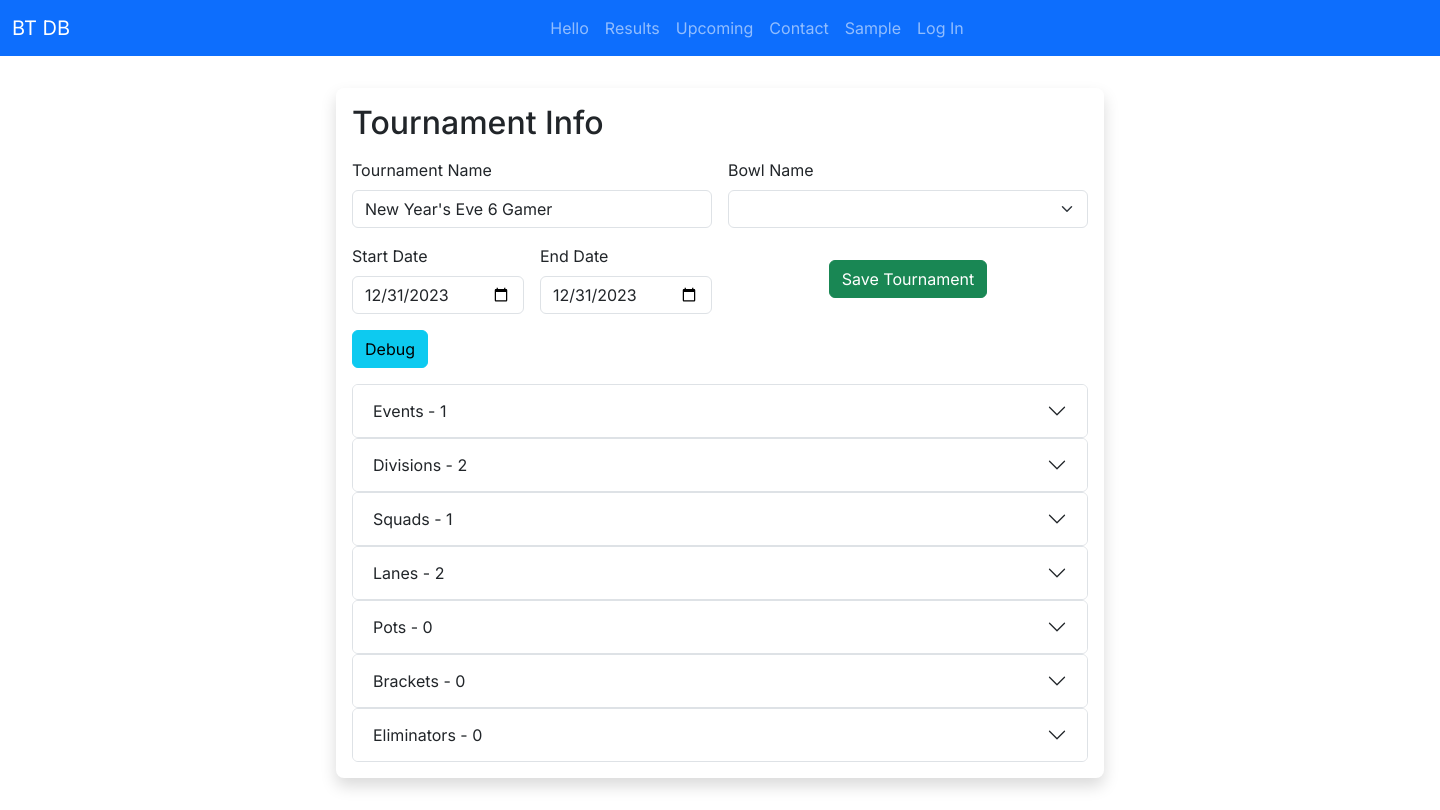
Scenario: TmntDataPage - Brackets Component › click the bracket division radio buttons › render multiple division radio buttons
Click the button "Brackets - 0". click: (414, 681)
box: [353,655,1087,707]
(page scrolled)
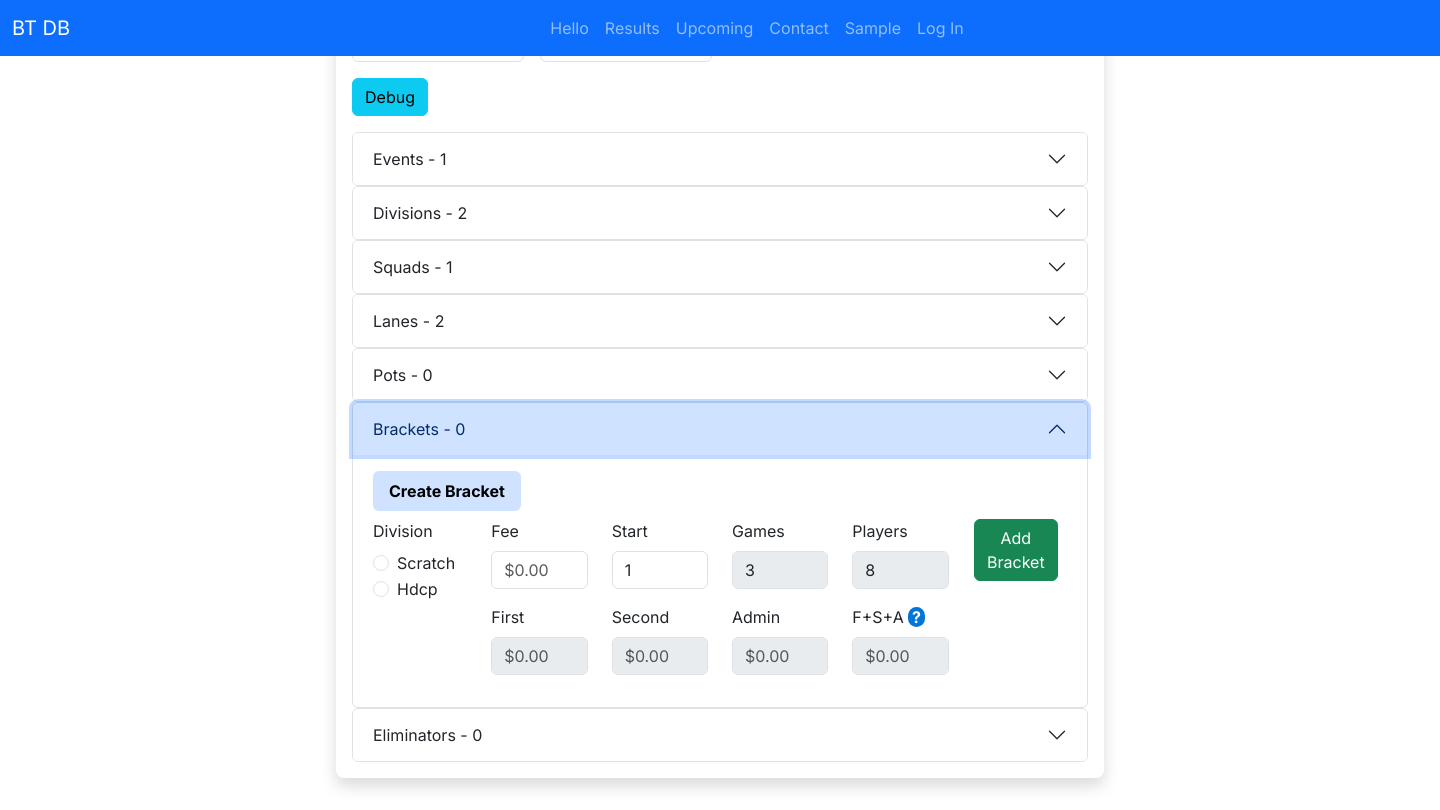
Now the number of radio buttons labelled "scratch" is 3
Now the number of radio buttons labelled "hdcp" is 3
Now the radio button labelled "Scratch" is not checked, box [373,555,389,571]
